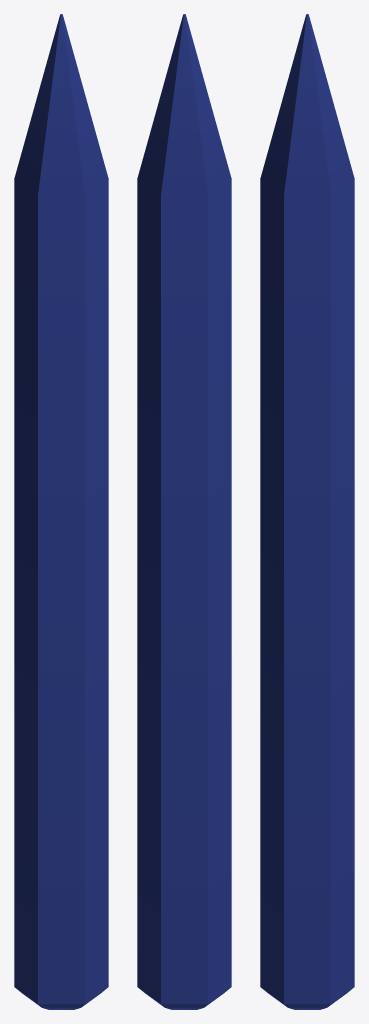
The model's file is lapis.fbx.
The picture shows the model from 3 angles, left to right: view 1: azimuth 90°, elevation 25°; view 2: azimuth 210°, elevation 25°; view 3: azimuth 270°, elevation 25°; orthographic projection.
Visible parts, largest first — view 1: Pencil; view 2: Pencil; view 3: Pencil.
Boxes of the visible parts, x1,y1,x2,y2 form: Pencil: (14, 14, 108, 1009); Pencil: (137, 14, 231, 1009); Pencil: (260, 14, 354, 1009).
Bounding box in the file's own units: 2.16 × 28.87 × 2.49.
